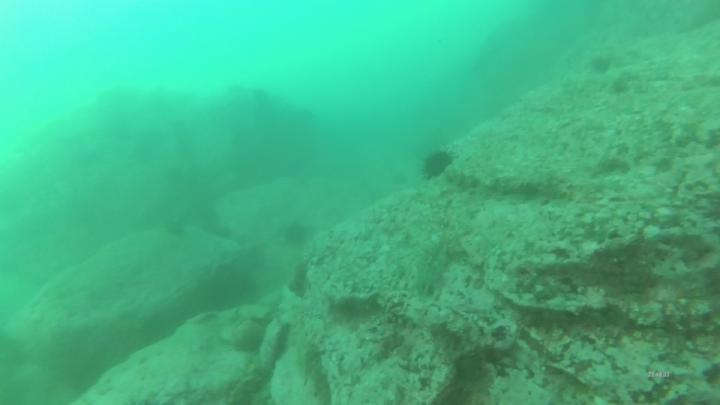echinus: (419, 150, 458, 181), (282, 220, 312, 247), (588, 56, 615, 76)
holothurian: (296, 336, 335, 405), (225, 363, 272, 405)
